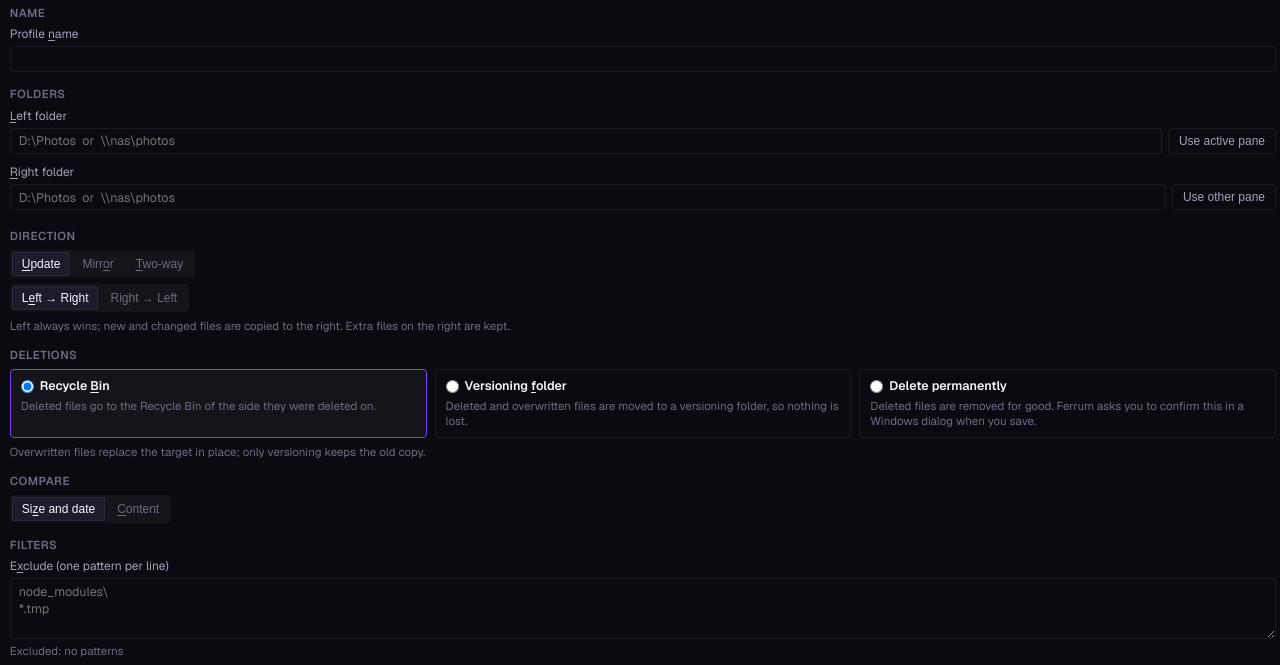
Test case: SyncProfileEditor › toggles mode and side and shows one sentence per mode (SP-2.4)
This screenshot has width=1280, height=665.
Step 1. Click the radio button labelled "Mirror" → (98, 264), box x1=72 y1=252 x2=124 y2=276
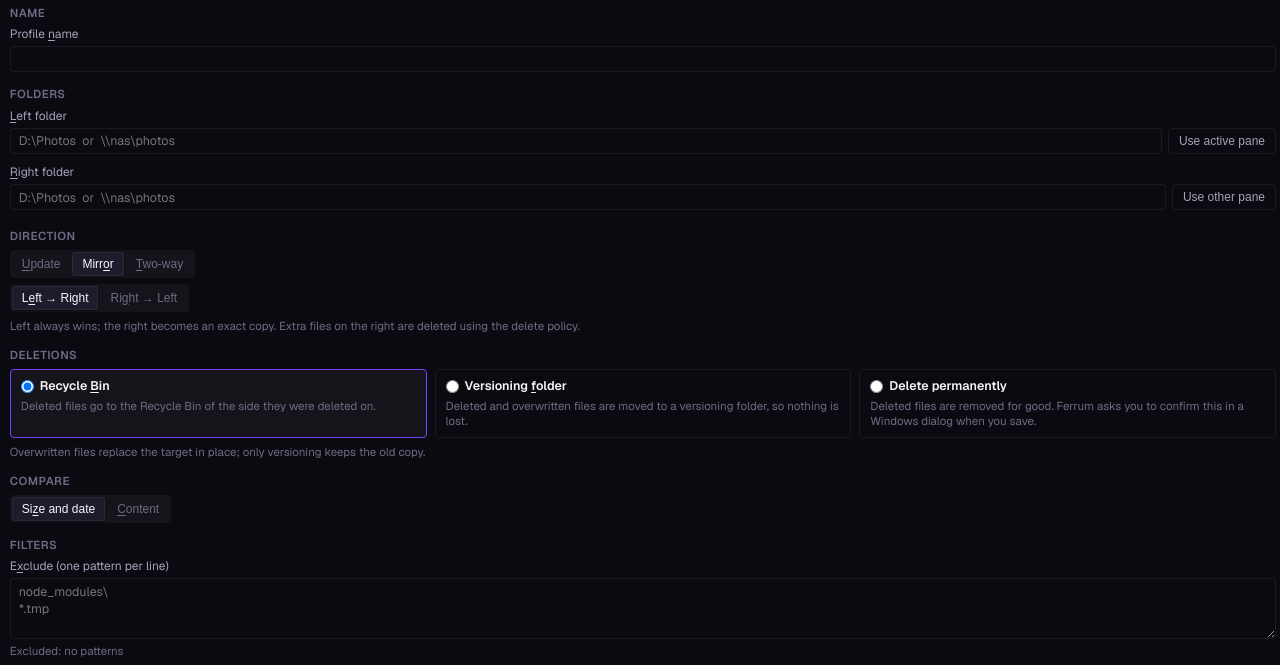
Expected: the text with test id "mode-sentence" shows "right becomes an exact copy", x1=10 y1=318 x2=580 y2=333
Step 2. Click the radio button labelled "Right → Left" → (144, 298), box x1=100 y1=286 x2=187 y2=310
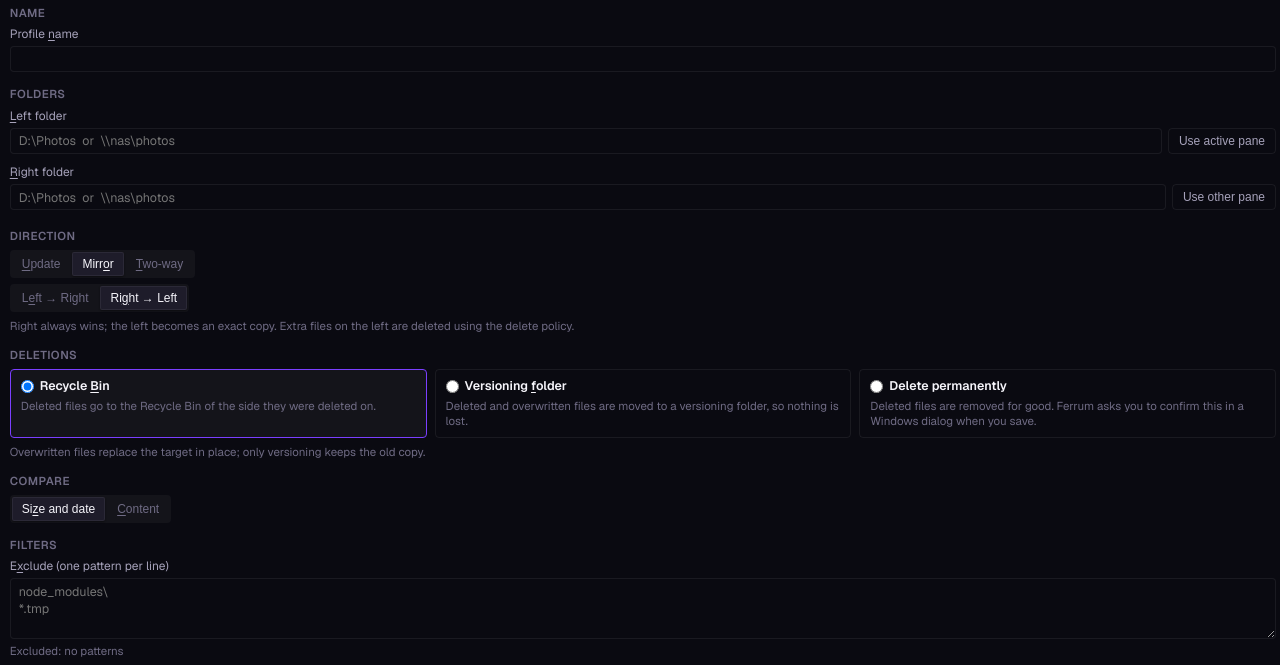
Step 3. Click the radio button labelled "Two-way" → (160, 264), box x1=126 y1=252 x2=193 y2=276
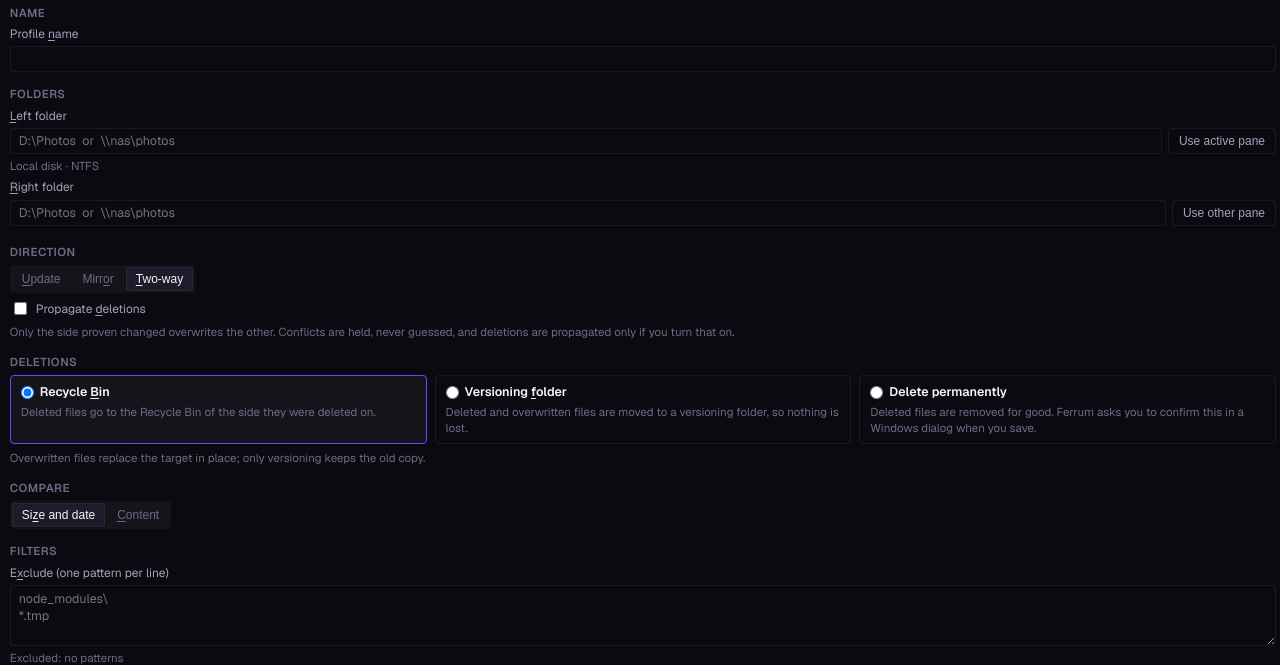
Expected: the radio button labelled "Right → Left" is gone
Expected: the checkbox labelled "Propagate deletions" is shown, x1=14 y1=302 x2=27 y2=315
Expected: the text with test id "mode-sentence" shows "Conflicts are held", x1=10 y1=324 x2=735 y2=339
